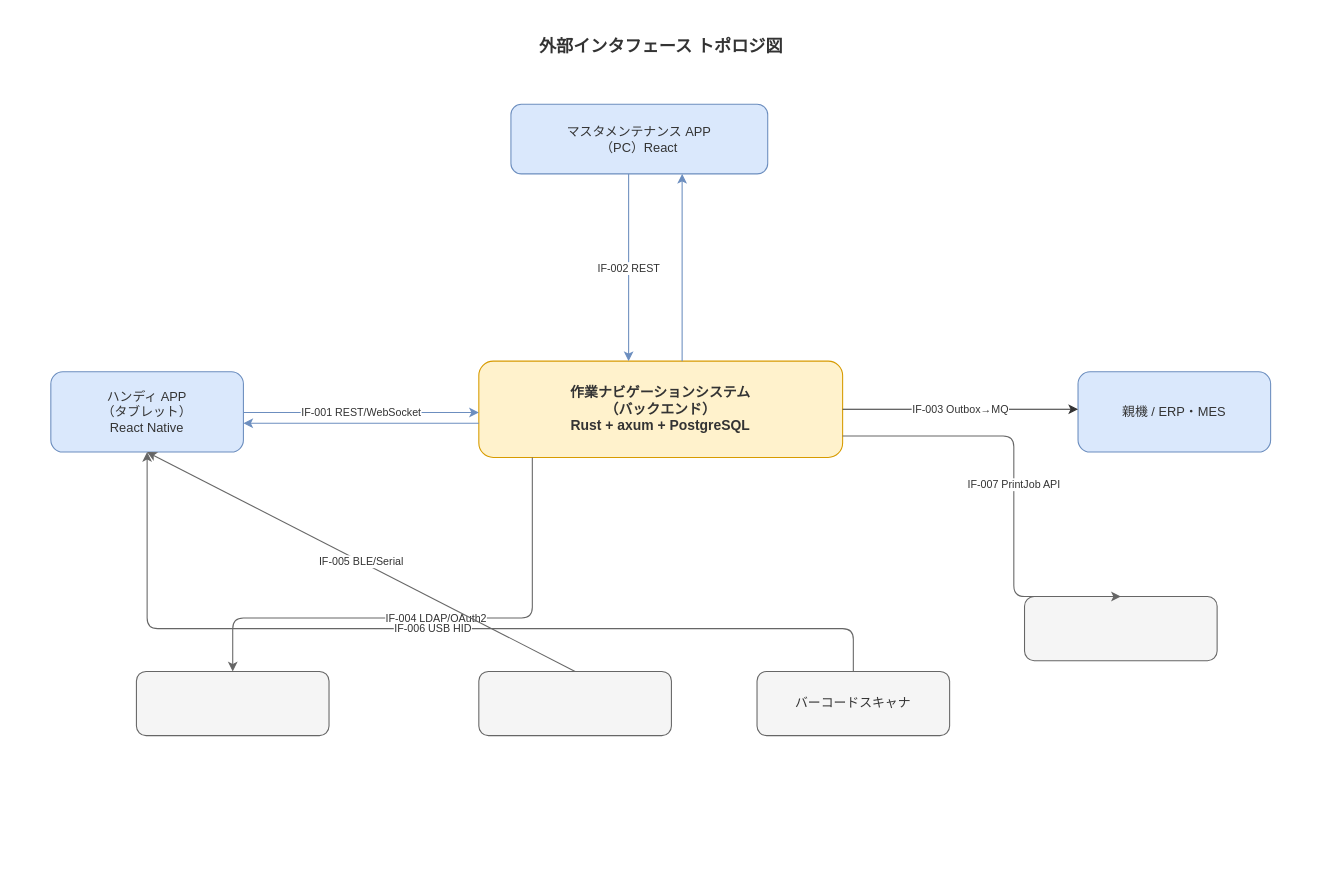
The diagram is 1320 pixels wide and 892 high, and some of its shapes have lost their labels. Each missing label, with the centre of its shape:
IoT 計測器: the point at 574,703
印刷・ラベル出力: the point at 1120,628
認証 AD/LDAP: the point at 232,703
